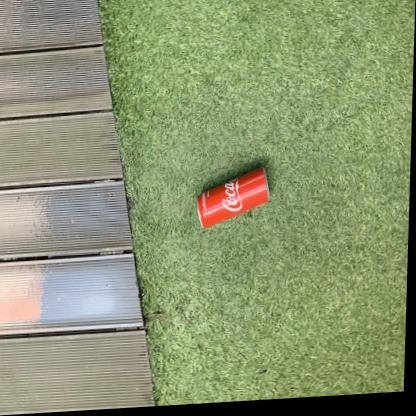trash: (197, 168, 268, 227)
